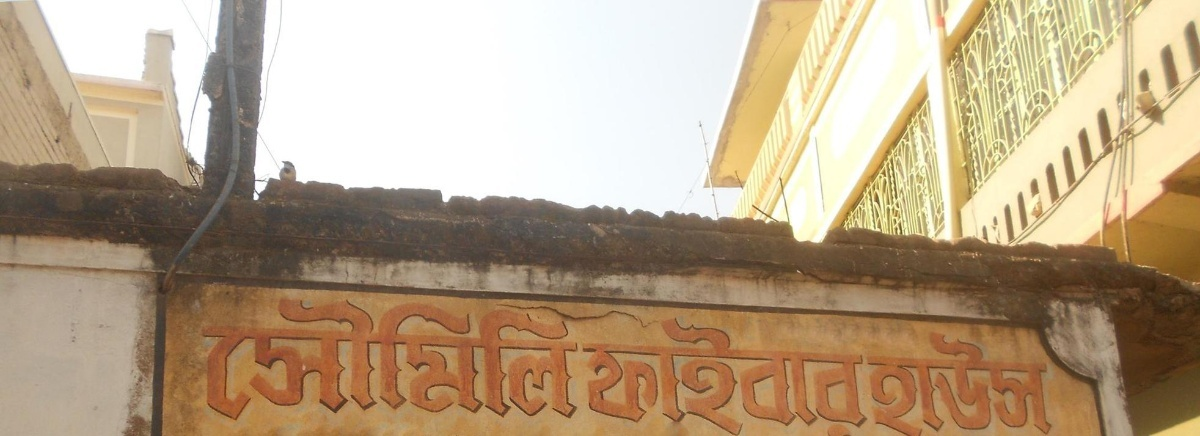text: (209, 295, 224, 421), (225, 295, 240, 421), (241, 295, 256, 421), (257, 295, 272, 421), (273, 295, 288, 421), (289, 295, 304, 421), (305, 295, 320, 421), (321, 295, 336, 421), (337, 295, 352, 421), (353, 295, 368, 421), (369, 295, 384, 421), (385, 295, 400, 421), (401, 295, 416, 421), (417, 295, 432, 421), (433, 295, 448, 421), (449, 295, 464, 421), (465, 295, 480, 421), (481, 295, 496, 421), (497, 295, 512, 421), (513, 295, 528, 421), (529, 295, 544, 421), (545, 295, 560, 421), (561, 295, 576, 421), (593, 318, 608, 436), (609, 318, 624, 436), (625, 318, 640, 436), (641, 318, 656, 436), (657, 318, 672, 436), (673, 318, 688, 436), (689, 318, 704, 436), (705, 318, 720, 436), (721, 318, 736, 436), (737, 318, 752, 436), (753, 318, 768, 436), (769, 318, 784, 436), (785, 318, 800, 436), (801, 318, 816, 436), (817, 318, 832, 436), (833, 318, 848, 436), (849, 318, 864, 436), (881, 331, 896, 435), (897, 331, 912, 435), (913, 331, 928, 435), (929, 331, 944, 435), (945, 331, 960, 435), (961, 331, 976, 435), (977, 331, 992, 435), (993, 331, 1008, 435), (1009, 331, 1024, 435), (1025, 331, 1040, 435), (866, 331, 880, 435), (1041, 331, 1055, 435), (581, 318, 592, 436), (200, 295, 208, 421), (865, 318, 868, 436), (577, 295, 579, 421)
